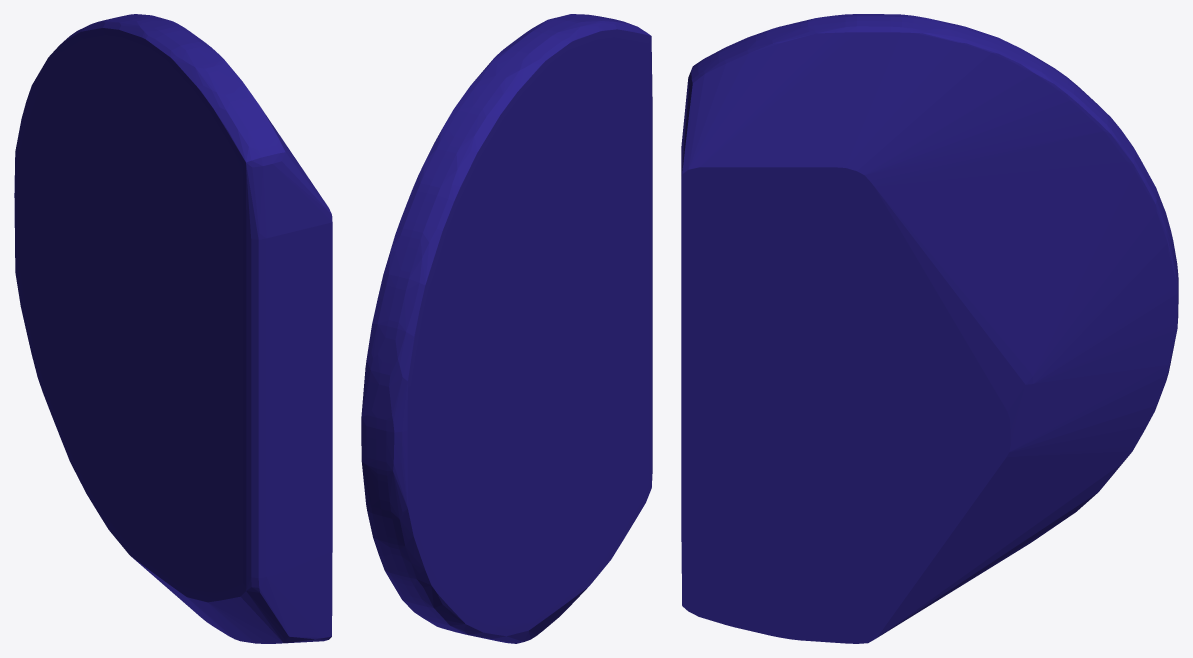
File: right_palm_part_18.obj
The picture shows the model from 3 angles, left to right: view 1: azimuth 30°, elevation 25°; view 2: azimuth 150°, elevation 25°; view 3: azimuth 270°, elevation 25°; orthographic projection. The views are drawn at different scales.
Bounding box in the file's own units: 6.15 × 42.54 × 32.25.
